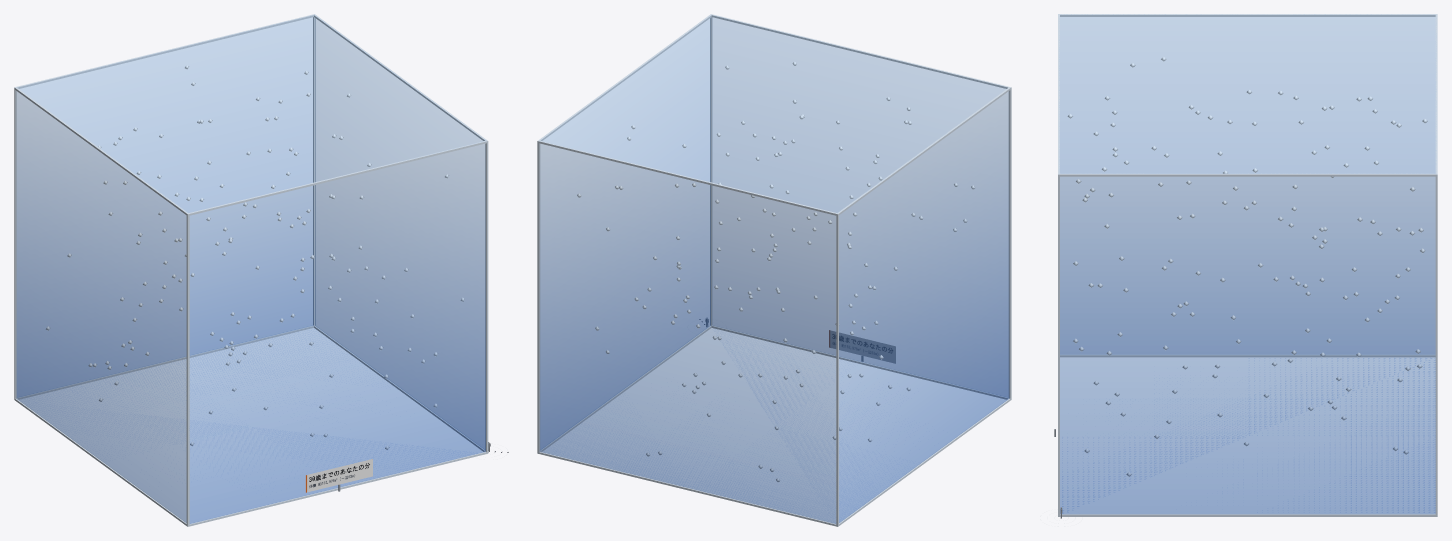
The model's file is cube_life_30.glb.
The picture shows the model from 3 angles, left to right: view 1: azimuth 30°, elevation 25°; view 2: azimuth 150°, elevation 25°; view 3: azimuth 270°, elevation 25°; orthographic projection. The views are drawn at different scales.
Parts seen in each view (by area): view 1: co2, edge, dots, label; view 2: co2, edge, dots, label; view 3: co2, edge, dots.
Boxes of the visible parts, x1=… form: co2: x1=16, y1=15, x2=485, y2=523; edge: x1=14, y1=14, x2=488, y2=526; dots: x1=46, y1=65, x2=464, y2=449; label: x1=305, y1=459, x2=372, y2=492; co2: x1=540, y1=15, x2=1009, y2=523; edge: x1=537, y1=14, x2=1011, y2=526; dots: x1=577, y1=61, x2=975, y2=482; label: x1=829, y1=330, x2=895, y2=363; co2: x1=1059, y1=15, x2=1436, y2=513; edge: x1=1058, y1=14, x2=1437, y2=516; dots: x1=1067, y1=56, x2=1427, y2=476.
Bounding box in the file's own units: 57.21 × 53.48 × 56.31.
8 materials, 3 textured.
